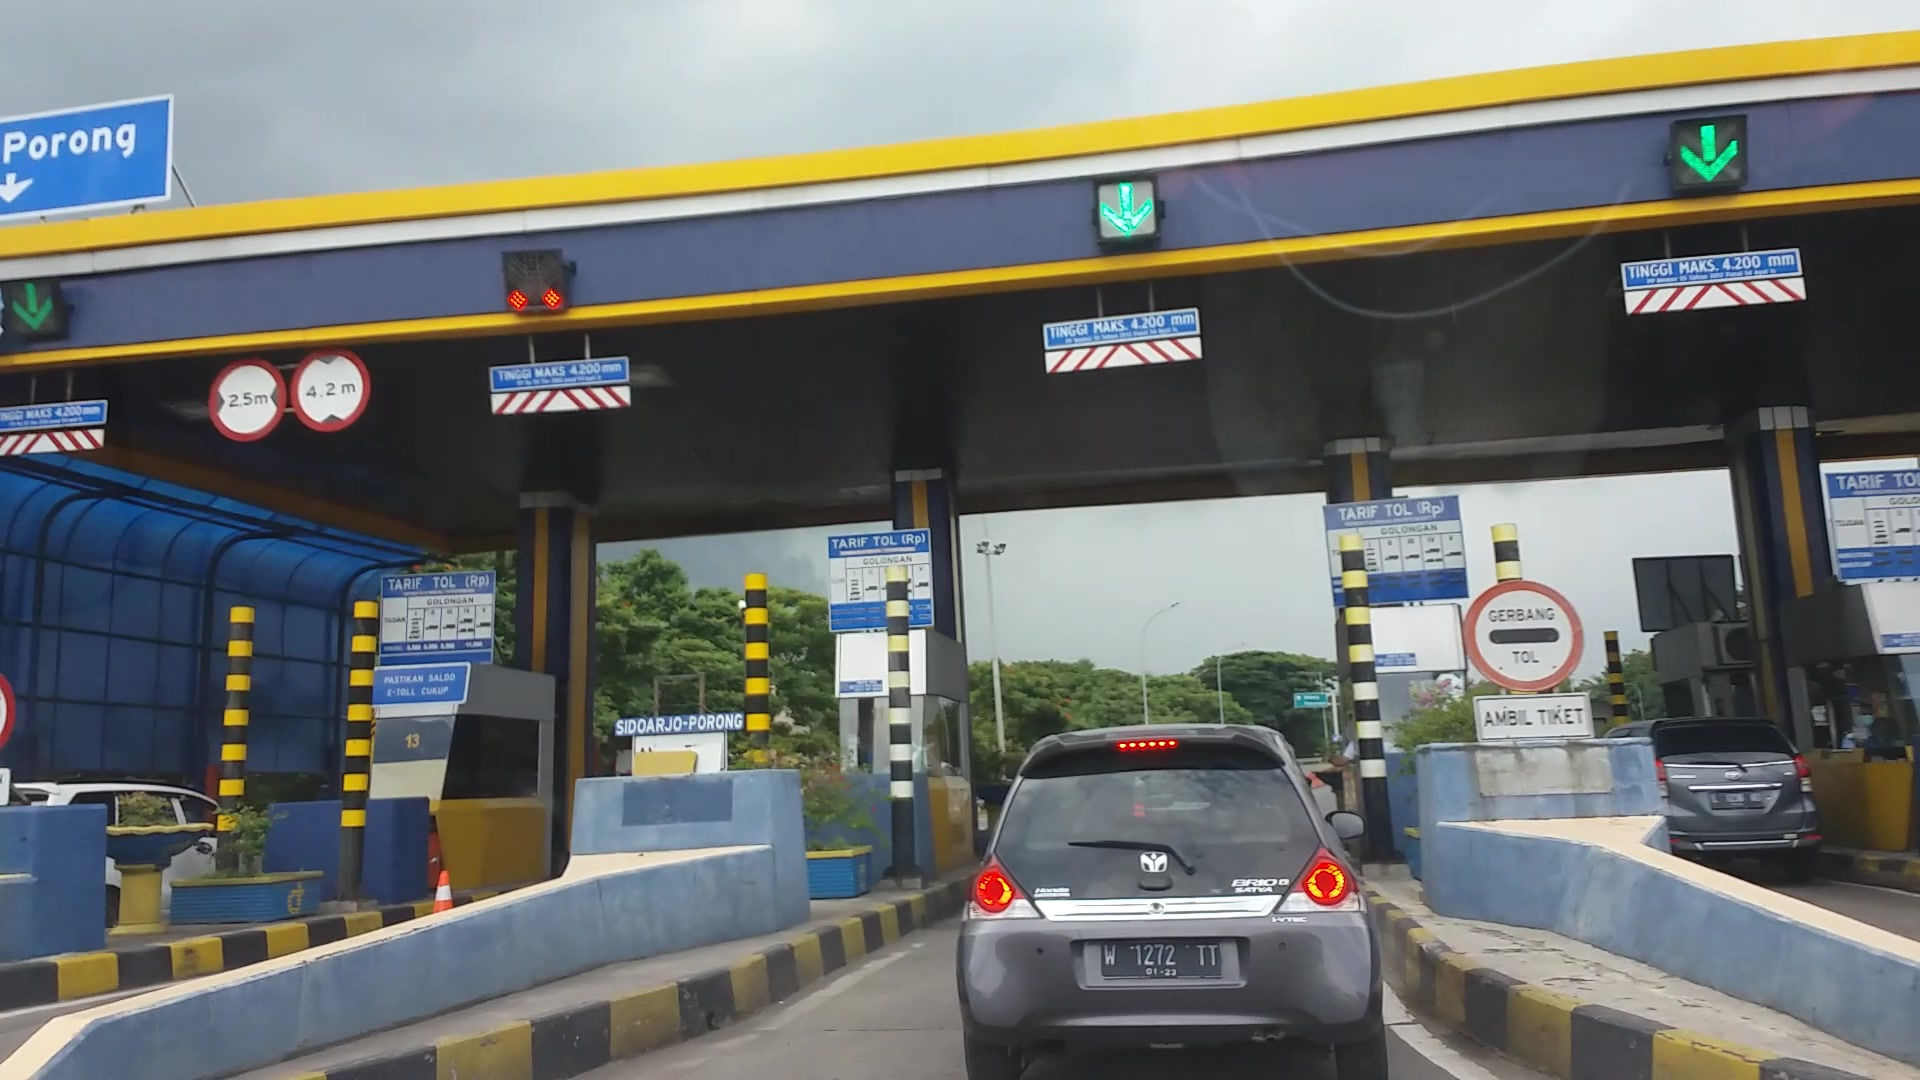plate_positive: (1101, 940, 1222, 978)
